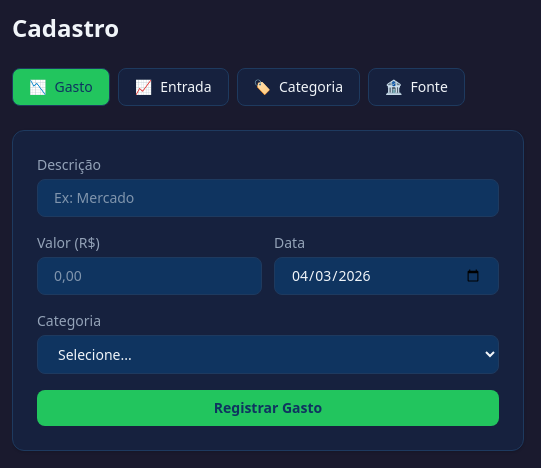
Test: PaginaCadastro › cria uma fonte com sucesso
Click the button "🏦 Fonte".
click(416, 87)  # box left=368, top=68, right=465, bottom=106
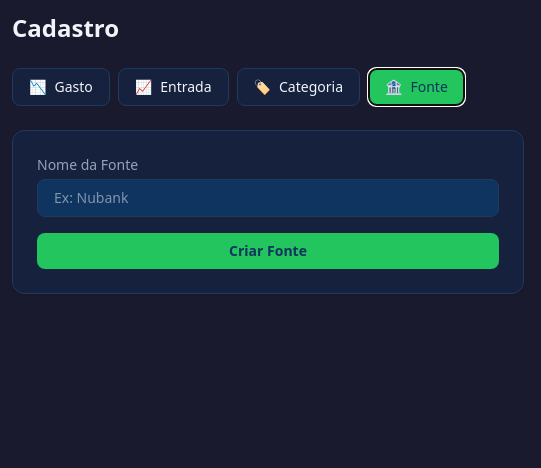
Expected: the button "Criar Fonte" is shown, left=37, top=233, right=499, bottom=269
Type "Pix" into the field labelled "Nome da Fonte".
click(268, 198); type("Pix")  # box left=37, top=179, right=499, bottom=217
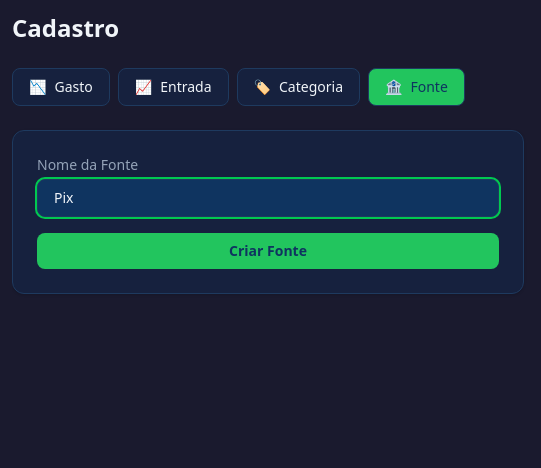
Click the button "Criar Fonte".
click(268, 251)  # box left=37, top=233, right=499, bottom=269
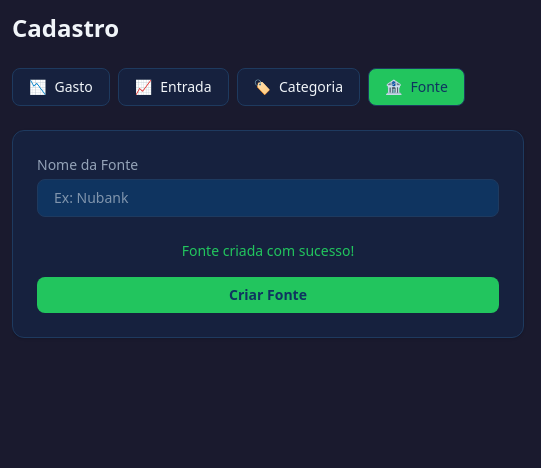
Expected: the text "Fonte criada com sucesso!" is shown, left=182, top=241, right=354, bottom=260
